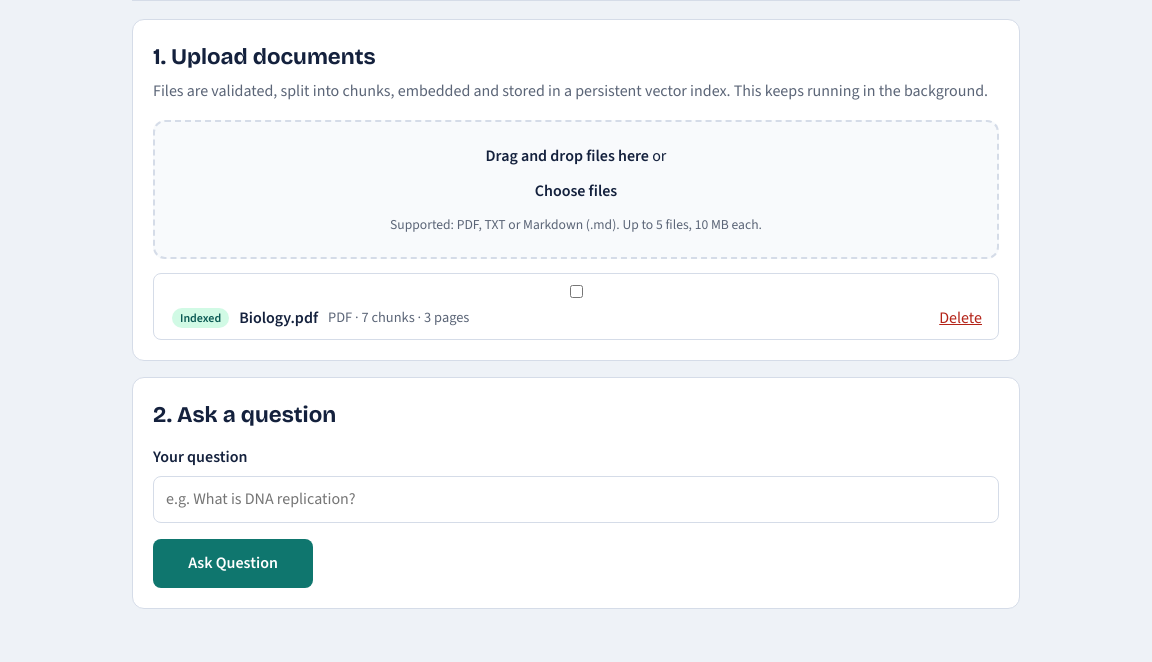
Test case: Document Q&A (advanced) › clicking an inline citation highlights and opens the matching source card
This screenshot has width=1152, height=662.
(page scrolled)
expect the text "Biology.pdf" is shown: met, box left=239, top=306, right=318, bottom=330
In the field labelled "Your question": (576, 499) left=153, top=476, right=999, bottom=523, type "q"
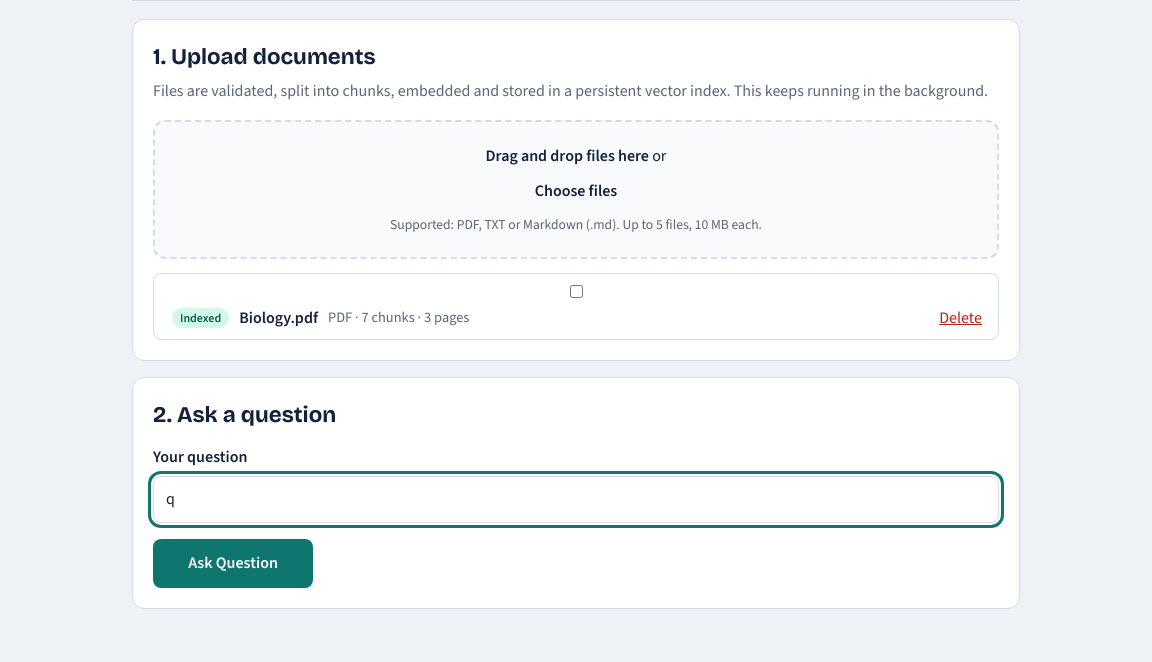
Click the button "Ask Question": click(233, 563) left=153, top=539, right=313, bottom=588
(page scrolled)
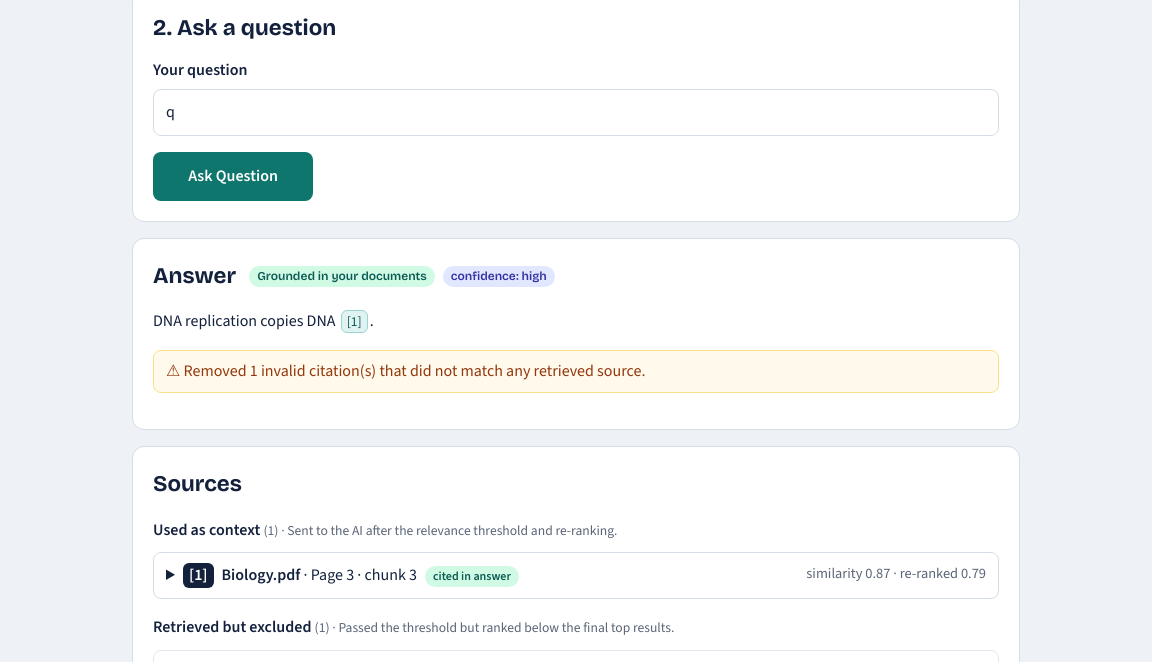
Click the button named "Show source 1": click(354, 322) left=341, top=310, right=368, bottom=333
(page scrolled)
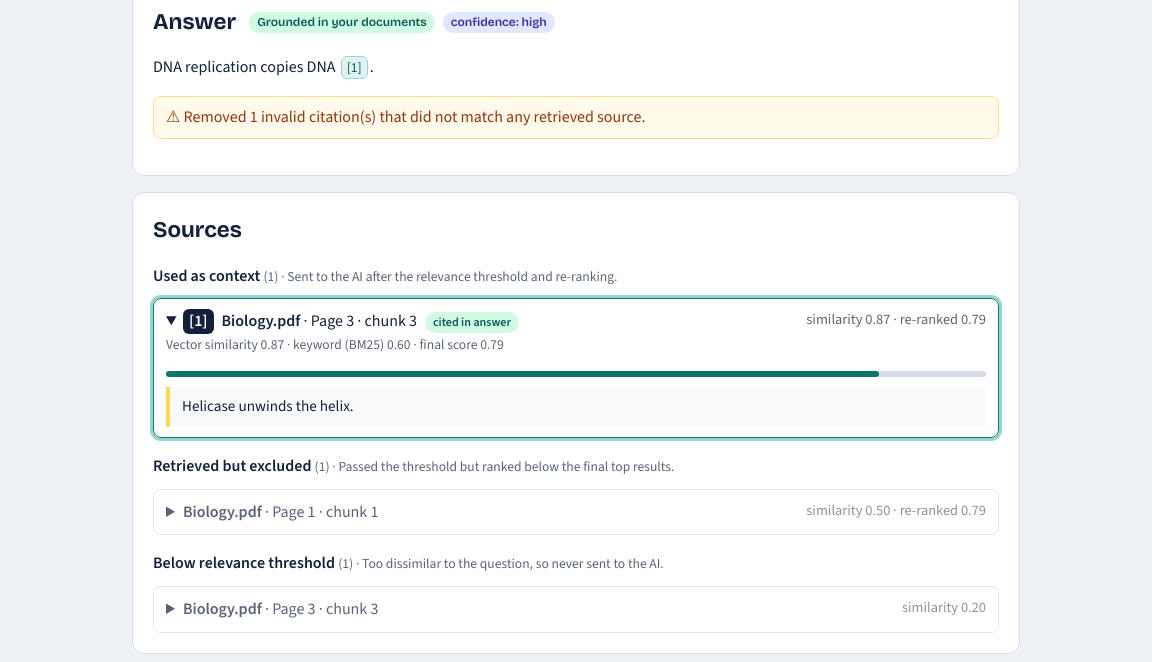
expect the text "Helicase unwinds the helix." is shown: met, box left=166, top=387, right=986, bottom=427
